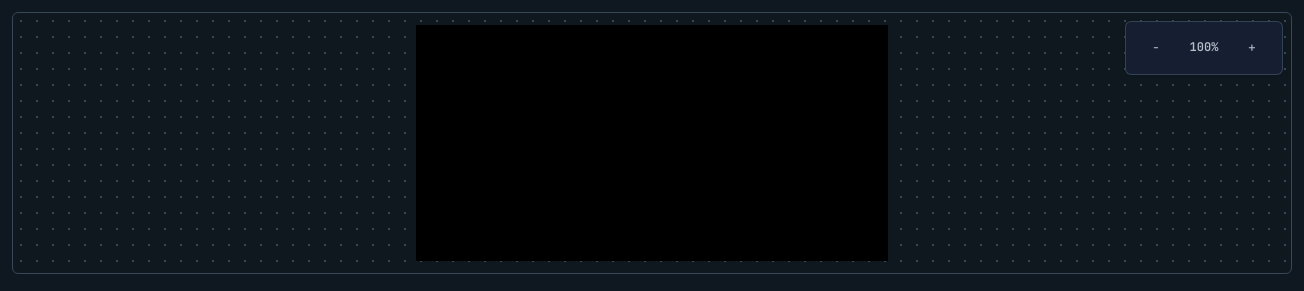
CanvasViewport › zooms in when + is clicked and zooms out when - is clicked
Click the button named "zoom in" at (1252, 48), box x1=1230 y1=26 x2=1274 y2=70
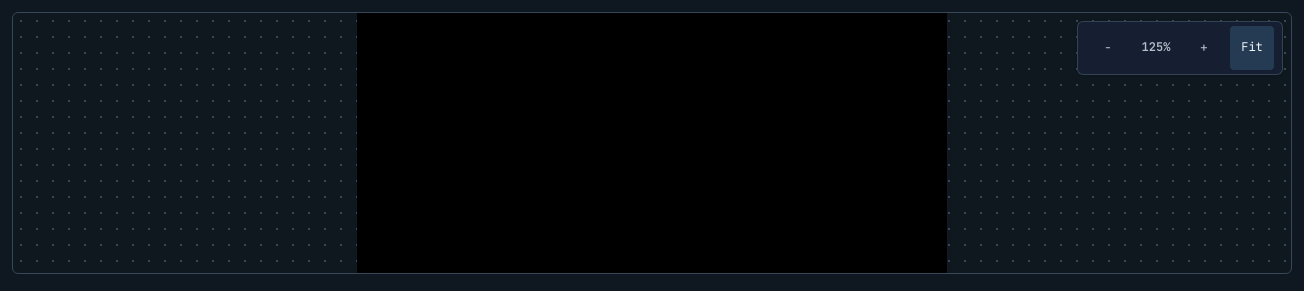
Expected: the button named "reset zoom to 100%" reads "125%", x1=1134 y1=26 x2=1178 y2=70
Click the button named "zoom out" at (1108, 48), box x1=1086 y1=26 x2=1130 y2=70
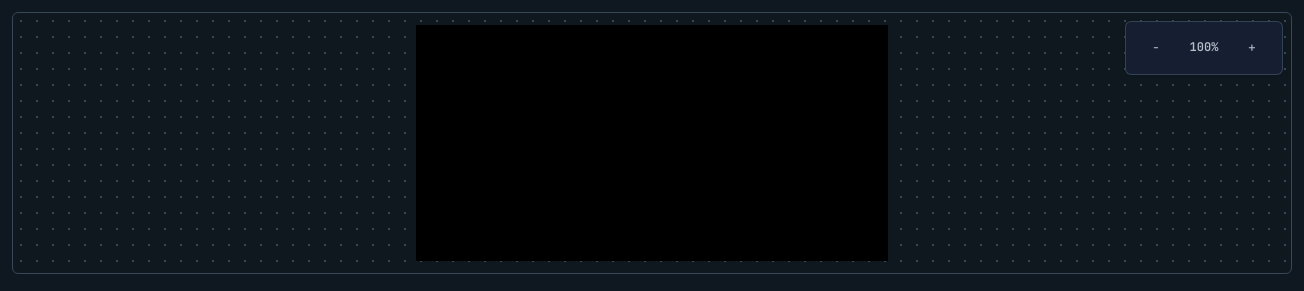
Expected: the button named "reset zoom to 100%" reads "100%", x1=1182 y1=26 x2=1226 y2=70
